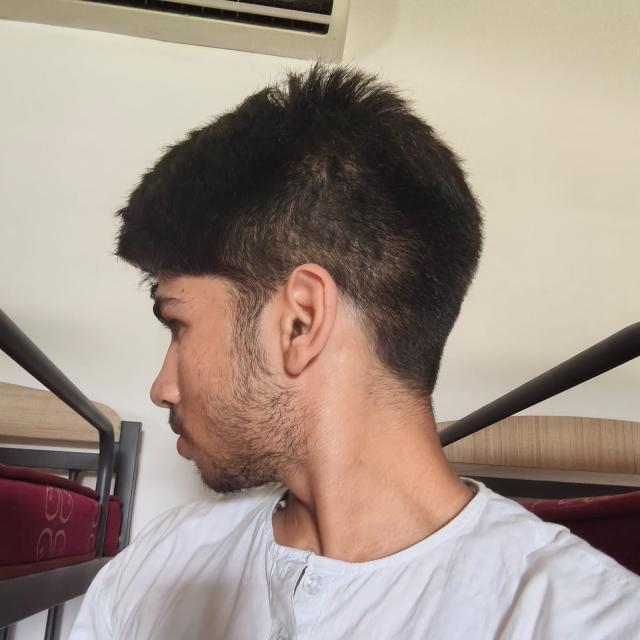hairnet-detection: (70, 66, 640, 640)
no-hairnet: (69, 66, 640, 640), (480, 423, 579, 462)
